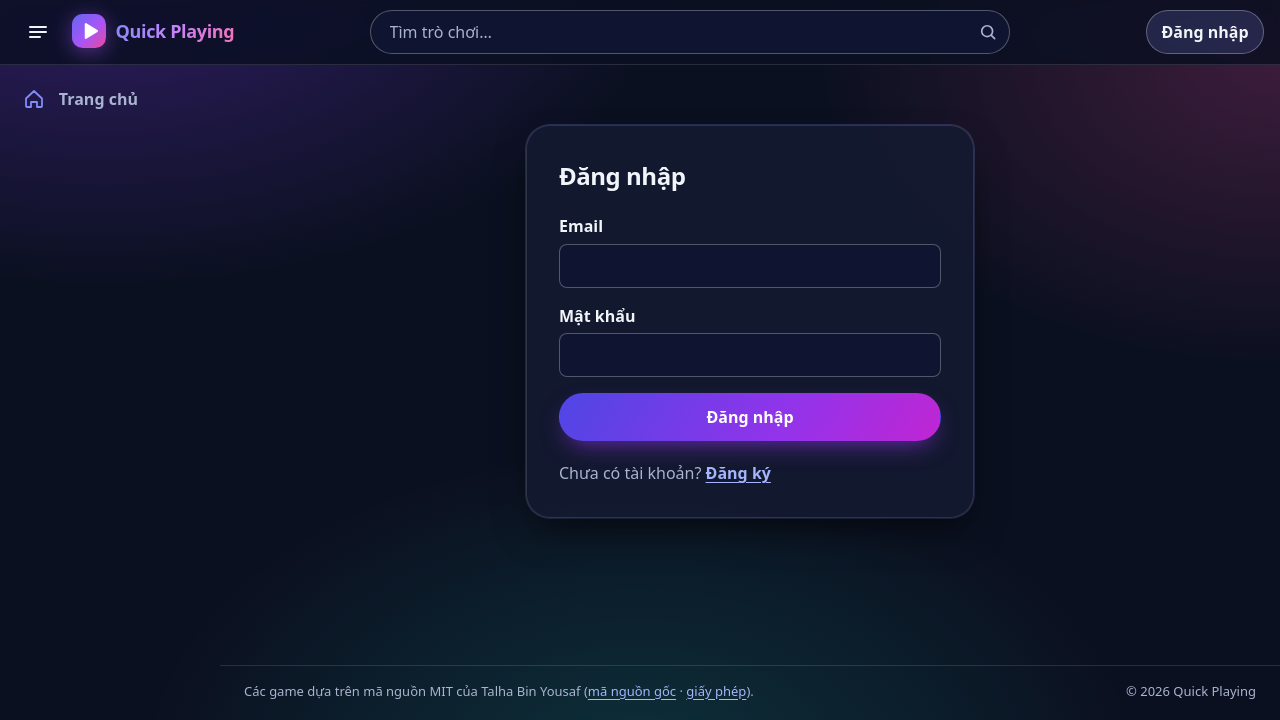
Test: AC28 login page › 403 shows a forbidden message
Type "lan@example.com" into the field with test id "login-email". click: (750, 266)
box: [559, 244, 941, 288]
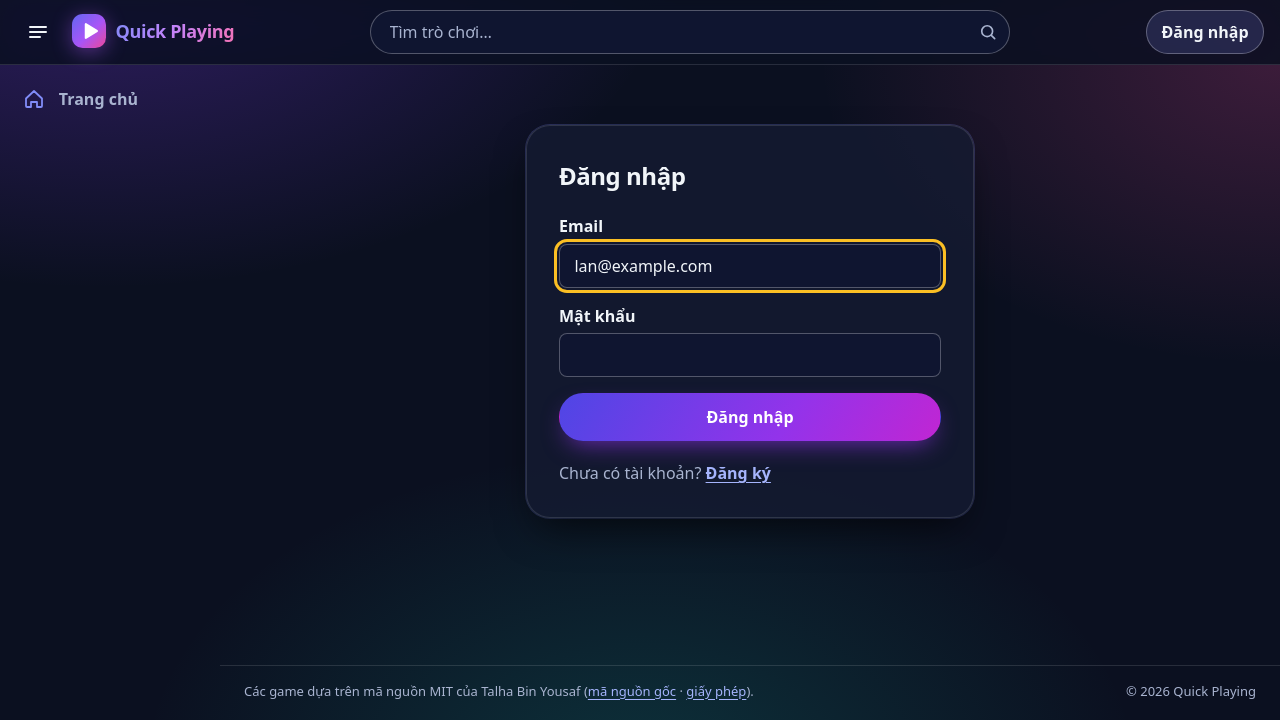
Type "mat-khau-dai-9" into the password field with test id "login-password". click: (750, 355)
box: [559, 333, 941, 377]
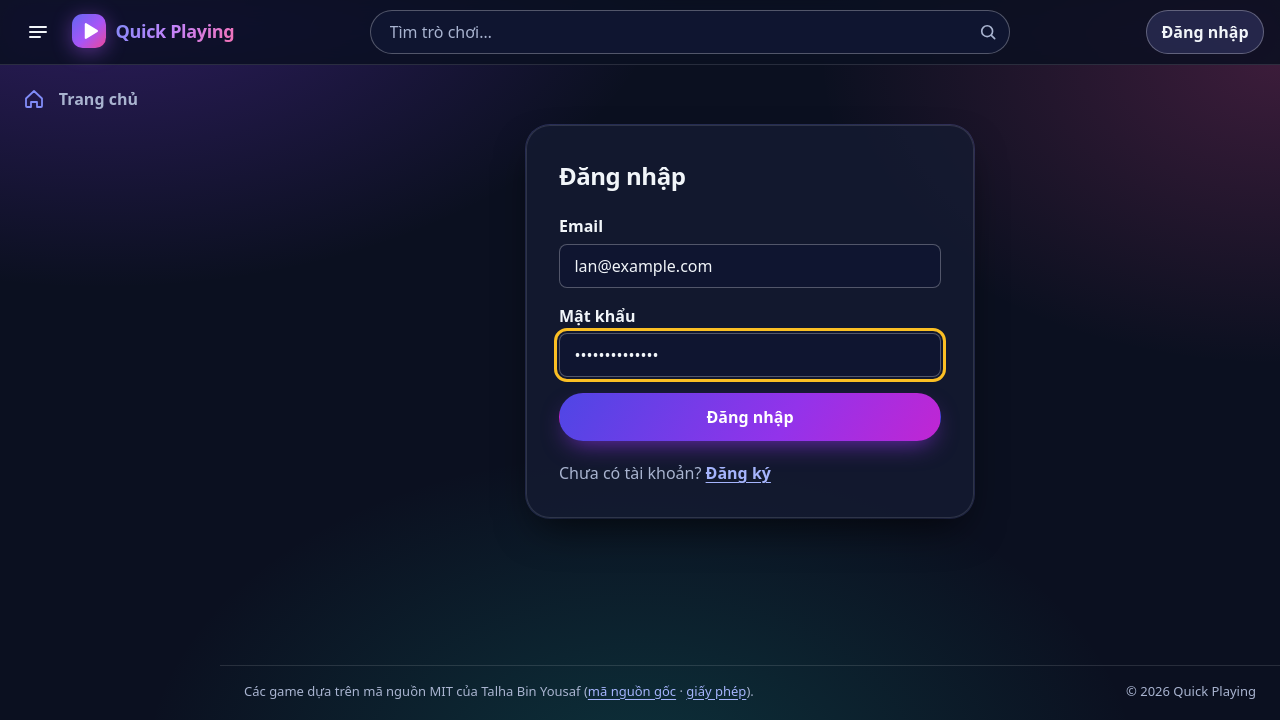
Click the button with test id "login-submit". click: (750, 417)
box: [559, 393, 941, 441]
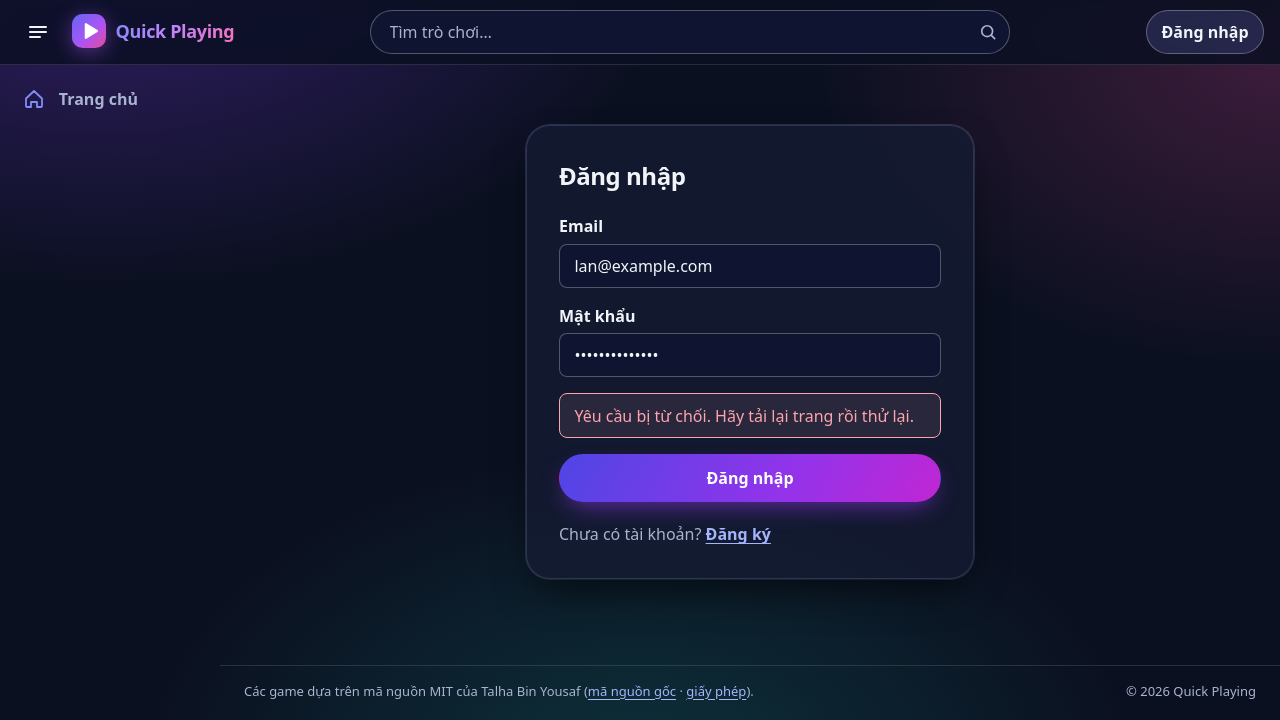
Expected: the message with test id "login-error" shows "Yêu cầu bị từ chối", [574, 405, 914, 427]
